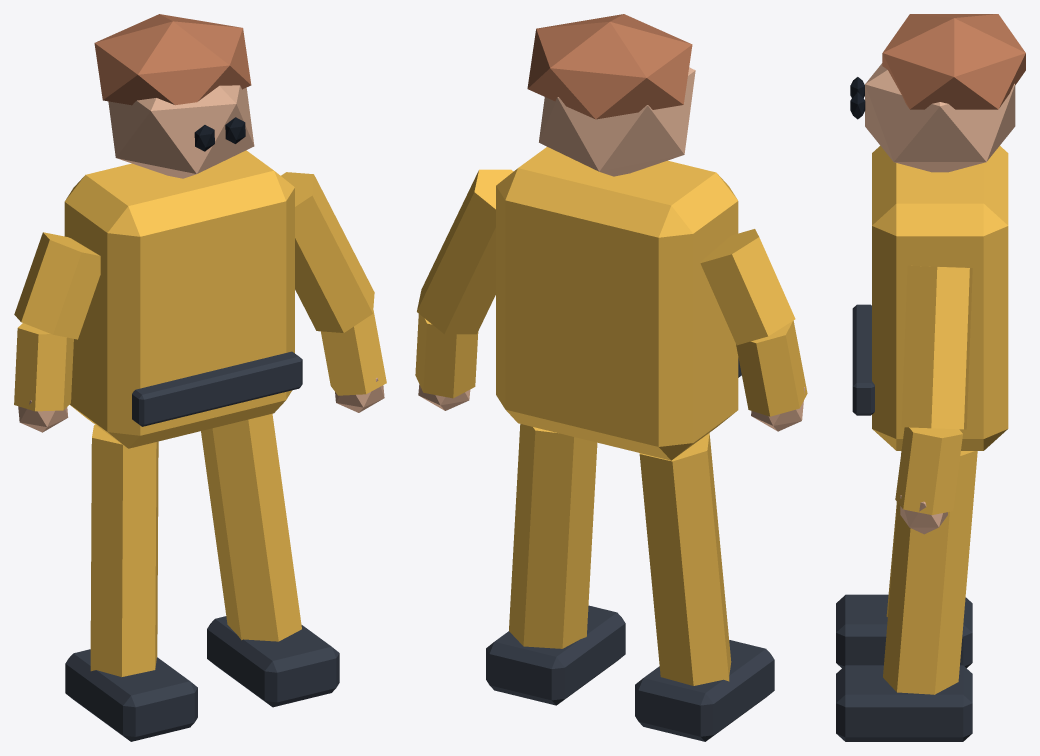
The model's file is npcs_012_seed78877.glb.
3 views of the same model, side by side, from view 1: azimuth 30°, elevation 25°; view 2: azimuth 150°, elevation 25°; view 3: azimuth 270°, elevation 25° (orthographic). The views are drawn at different scales.
Parts seen in each view (by area): view 1: npcs_012_seed78877; view 2: npcs_012_seed78877; view 3: npcs_012_seed78877.
Boxes of the visible parts, x1,y1,x2,y2 form: npcs_012_seed78877: (14,14,386,741); npcs_012_seed78877: (415,14,807,741); npcs_012_seed78877: (836,14,1025,741).
Size of the model in its own units: 1.08 by 1.86 by 0.4772.
